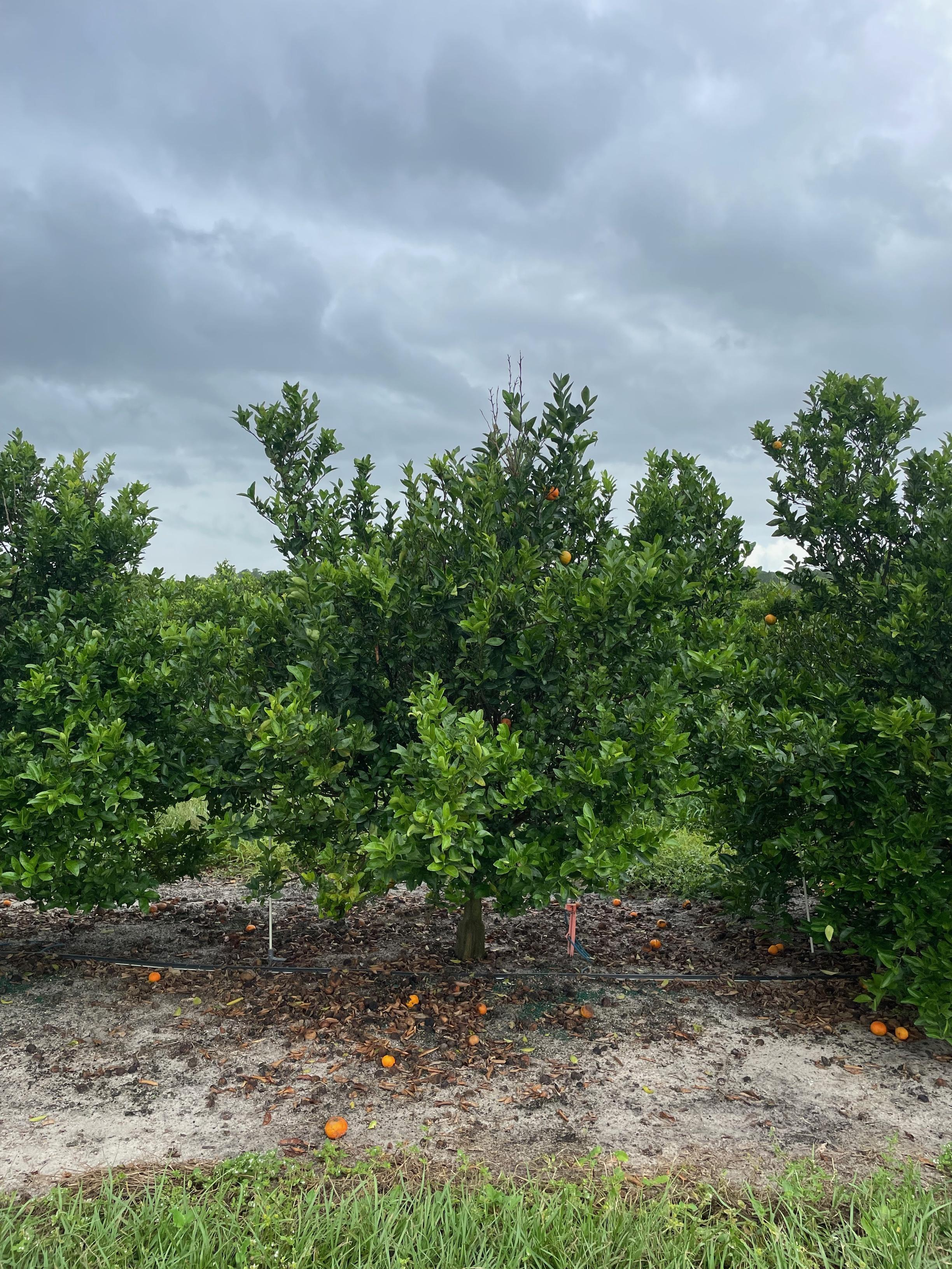fruit_on_ground: (542, 482, 561, 502), (558, 549, 573, 566), (763, 612, 779, 626), (499, 716, 513, 729), (771, 439, 783, 452)
fruit_on_tree: (323, 1114, 349, 1140), (869, 1018, 889, 1037), (579, 1002, 597, 1019), (893, 1023, 910, 1041), (380, 1053, 397, 1069), (404, 993, 420, 1009), (146, 968, 163, 983), (475, 1002, 489, 1016), (466, 1033, 480, 1046), (649, 936, 663, 949), (243, 921, 257, 933), (654, 918, 668, 930), (215, 901, 228, 913), (156, 900, 168, 912), (610, 896, 623, 907), (2, 896, 13, 908), (147, 903, 159, 914), (681, 898, 693, 909), (767, 944, 779, 955), (774, 942, 785, 951), (628, 909, 639, 917)
